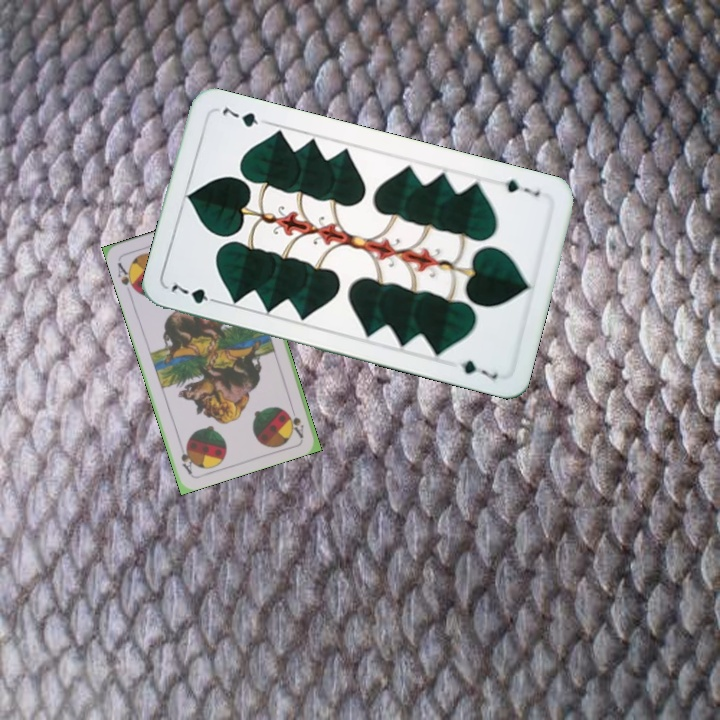G7: (167, 277, 224, 307), (500, 175, 543, 200)
SA: (113, 258, 139, 294), (285, 400, 306, 440)
